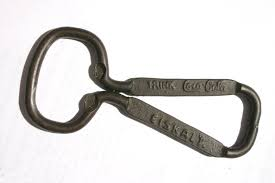bottleopener: (22, 26, 261, 158)
